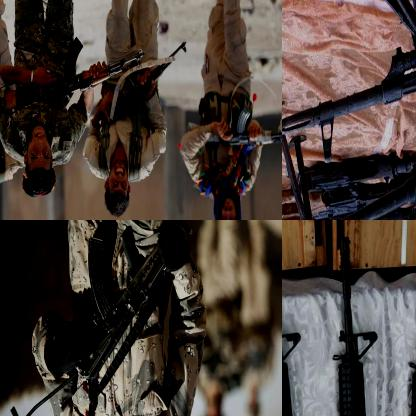rifle: (10, 220, 200, 415), (282, 0, 415, 167), (301, 231, 383, 415), (282, 107, 415, 219), (1, 36, 148, 113), (367, 220, 415, 415), (97, 40, 190, 128), (282, 237, 321, 415), (300, 159, 415, 219), (190, 94, 281, 152)
